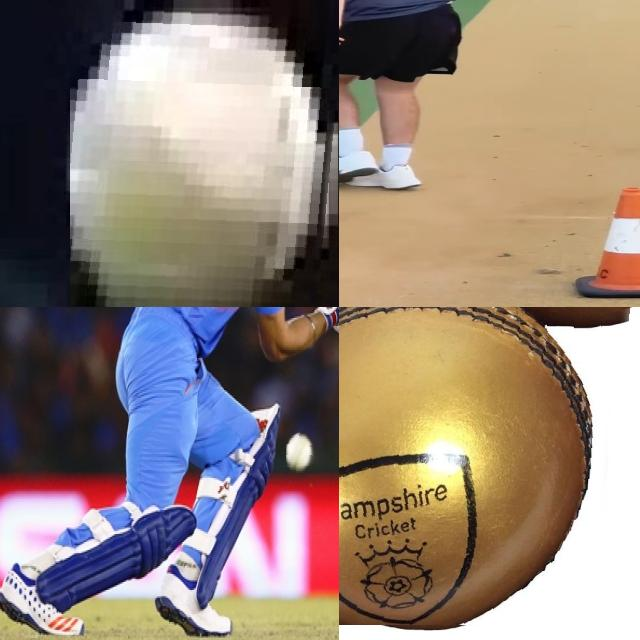Cricket ball: (339, 307, 632, 625), (70, 0, 339, 307), (286, 428, 318, 474)
